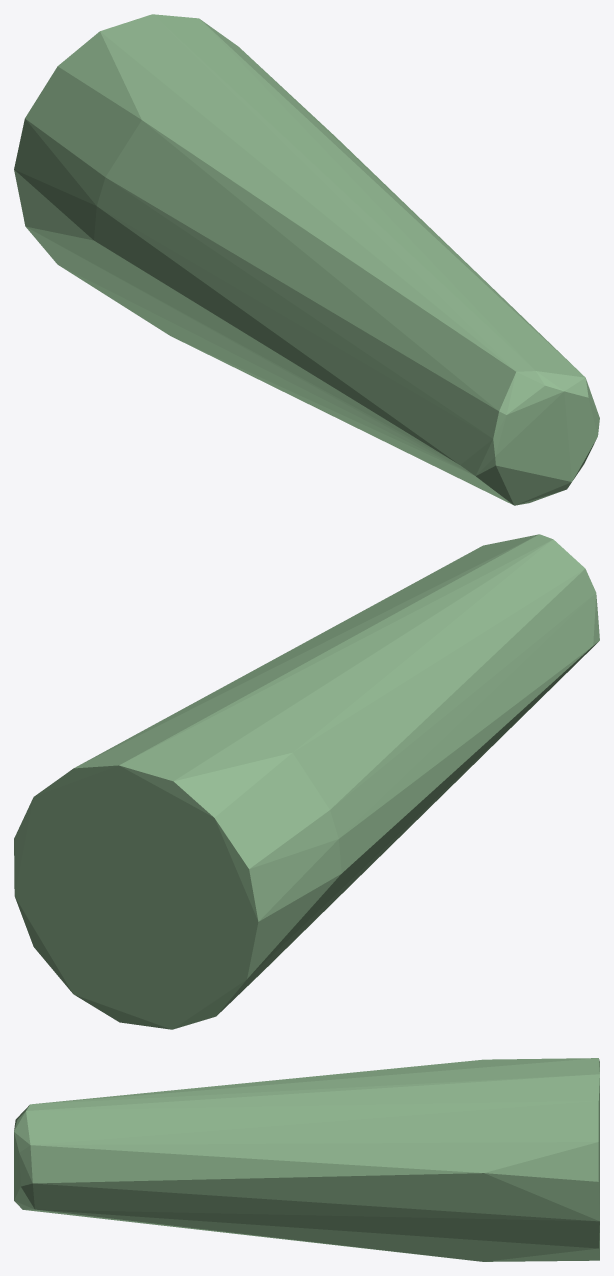
Rendered from factory_bolt_m04_loose.glb.
3 views of the same model, one above another, from view 1: azimuth 30°, elevation 25°; view 2: azimuth 150°, elevation 25°; view 3: azimuth 270°, elevation 25° (orthographic). The views are drawn at different scales.
Parts seen in each view (by area): view 1: geometry_0; view 2: geometry_0; view 3: geometry_0.
Part boxes in pixels (x1,y1,x2,y2): geometry_0: (14,14,599,505); geometry_0: (14,534,599,1029); geometry_0: (14,1058,599,1261).
Size of the model in its own units: 0.1659 by 0.1656 by 0.48.
